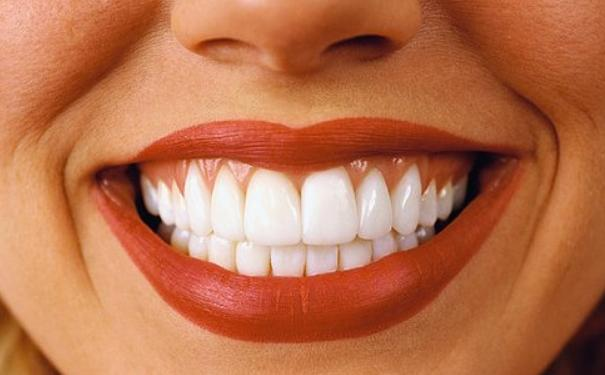normal: (243, 165, 303, 246), (300, 165, 357, 245), (355, 167, 393, 239), (210, 160, 243, 242), (181, 159, 212, 235), (391, 161, 421, 232), (269, 242, 305, 278), (236, 240, 271, 277), (206, 234, 235, 274), (305, 243, 337, 277), (339, 238, 371, 270), (418, 178, 436, 227), (156, 179, 173, 226), (172, 183, 187, 231), (370, 236, 397, 262), (141, 176, 158, 216), (435, 179, 452, 219), (187, 233, 209, 260), (171, 229, 189, 254), (396, 233, 419, 251)
